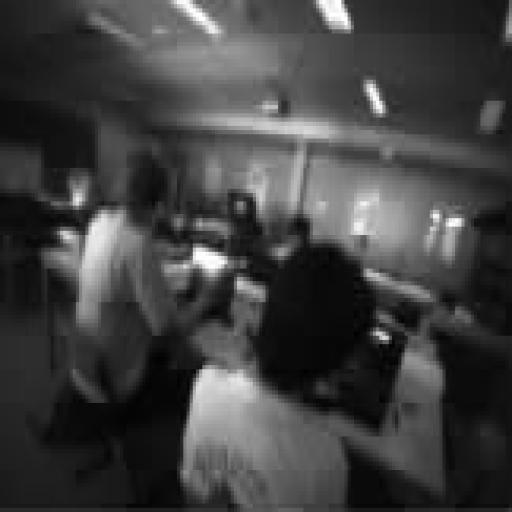human: (45, 152, 227, 440), (181, 244, 376, 507), (50, 157, 119, 254), (275, 215, 309, 260)
